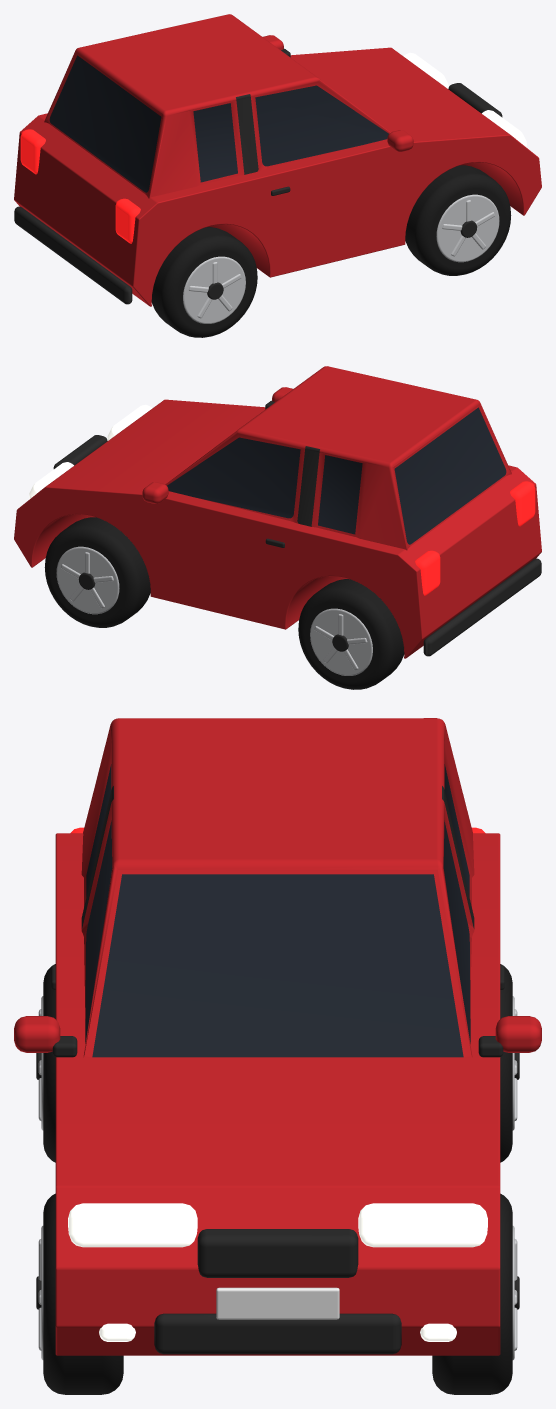
Rendered from vw_fox.glb.
3 renders of one model, top to bottom at view 1: azimuth 30°, elevation 25°; view 2: azimuth 150°, elevation 25°; view 3: azimuth 270°, elevation 25°, orthographic. The views are drawn at different scales.
Parts seen in each view (by area): view 1: Cuerpo, Rueda_DD, Rueda_TD; view 2: Cuerpo, Rueda_DI, Rueda_TI; view 3: Cuerpo, Rueda_DD, Rueda_DI, Rueda_TD, Rueda_TI.
Boxes of the visible parts, left/top/right/bottom form: Cuerpo: left=14, top=14, right=541, bottom=306; Rueda_DD: left=405, top=165, right=511, bottom=275; Rueda_TD: left=151, top=227, right=257, bottom=337; Cuerpo: left=14, top=366, right=541, bottom=658; Rueda_DI: left=44, top=517, right=150, bottom=627; Rueda_TI: left=298, top=579, right=404, bottom=689; Cuerpo: left=14, top=718, right=541, bottom=1355; Rueda_DD: left=36, top=1193, right=123, bottom=1394; Rueda_DI: left=432, top=1193, right=519, bottom=1394; Rueda_TD: left=36, top=964, right=55, bottom=1162; Rueda_TI: left=500, top=964, right=519, bottom=1162.
Bounding box in the file's own units: 2.91 × 1.47 × 1.71.
